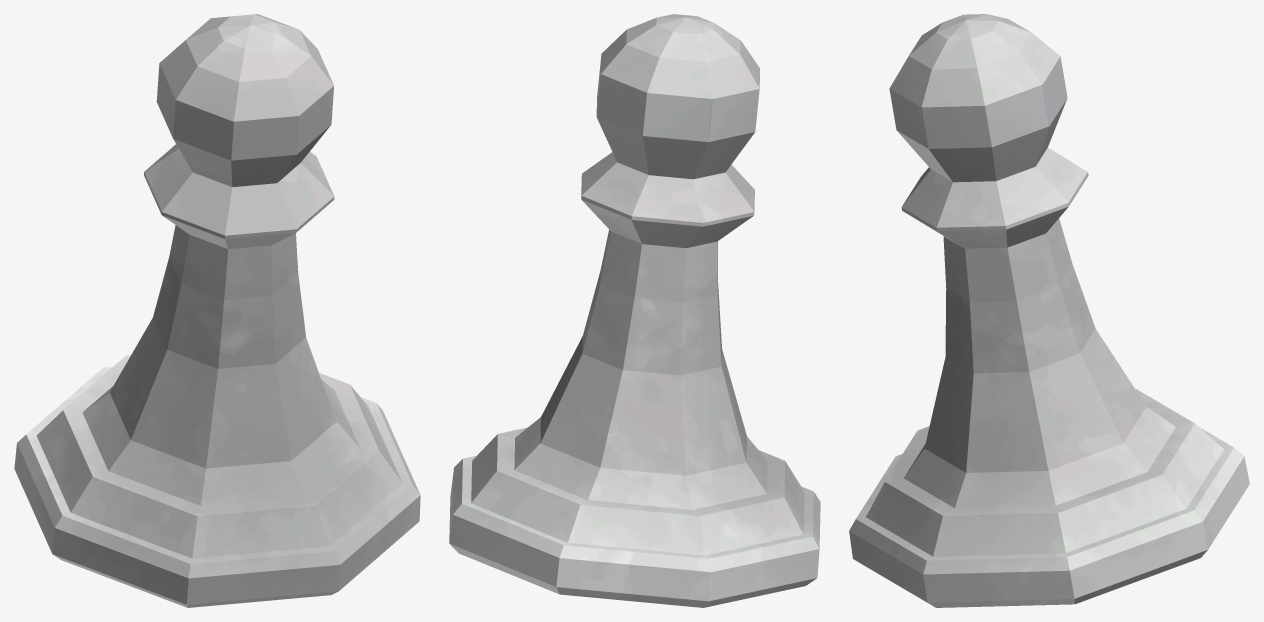
The model's file is wPawn.glb.
3 views of the same model, side by side, from view 1: azimuth 30°, elevation 25°; view 2: azimuth 150°, elevation 25°; view 3: azimuth 270°, elevation 25° (orthographic). The views are drawn at different scales.
Parts seen in each view (by area): view 1: node_id48; view 2: node_id48; view 3: node_id48.
Part boxes in pixels (left/top/right/bottom): node_id48: left=14, top=14, right=420, bottom=607; node_id48: left=449, top=14, right=820, bottom=607; node_id48: left=849, top=14, right=1249, bottom=607.
Size of the model in its own units: 0.1172 by 0.1713 by 0.117.
Materials: 1 (1 with a texture image).
